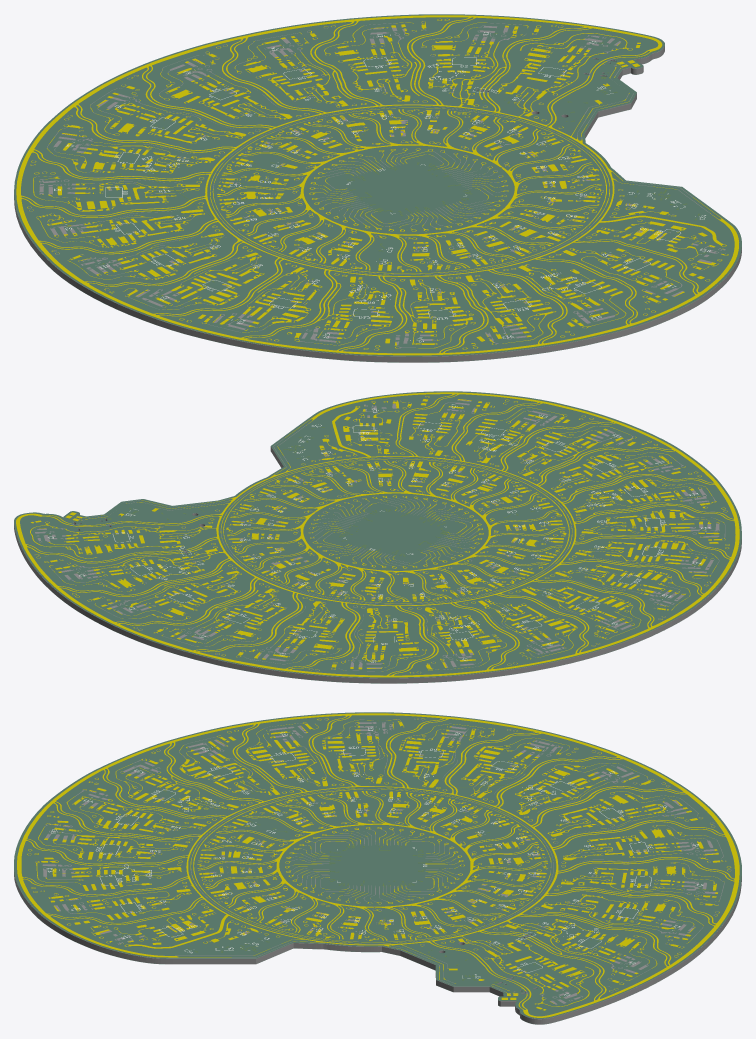
Rendered from ammonode.glb.
3 renders of one model, top to bottom at view 1: azimuth 30°, elevation 25°; view 2: azimuth 150°, elevation 25°; view 3: azimuth 270°, elevation 25°, orthographic. The views are drawn at different scales.
Parts seen in each view (by area): view 1: =>[0:1:1:6], =>[0:1:1:8], =>[0:1:1:2], =>[0:1:1:4]; view 2: =>[0:1:1:6], =>[0:1:1:8], =>[0:1:1:2], =>[0:1:1:4]; view 3: =>[0:1:1:6], =>[0:1:1:8], =>[0:1:1:2], =>[0:1:1:4].
Boxes of the visible parts, <box> form: =>[0:1:1:6]: <box>14,14,741,362</box>; =>[0:1:1:8]: <box>14,15,741,362</box>; =>[0:1:1:2]: <box>16,15,738,355</box>; =>[0:1:1:4]: <box>54,32,710,342</box>; =>[0:1:1:6]: <box>14,391,741,683</box>; =>[0:1:1:8]: <box>14,392,741,683</box>; =>[0:1:1:2]: <box>16,392,739,677</box>; =>[0:1:1:4]: <box>48,404,710,662</box>; =>[0:1:1:6]: <box>14,712,741,1024</box>; =>[0:1:1:8]: <box>14,713,741,1024</box>; =>[0:1:1:2]: <box>17,713,739,1017</box>; =>[0:1:1:4]: <box>47,727,703,997</box>.
Bounding box in the file's own units: 0.1855 × 0.00166 × 0.1861.
